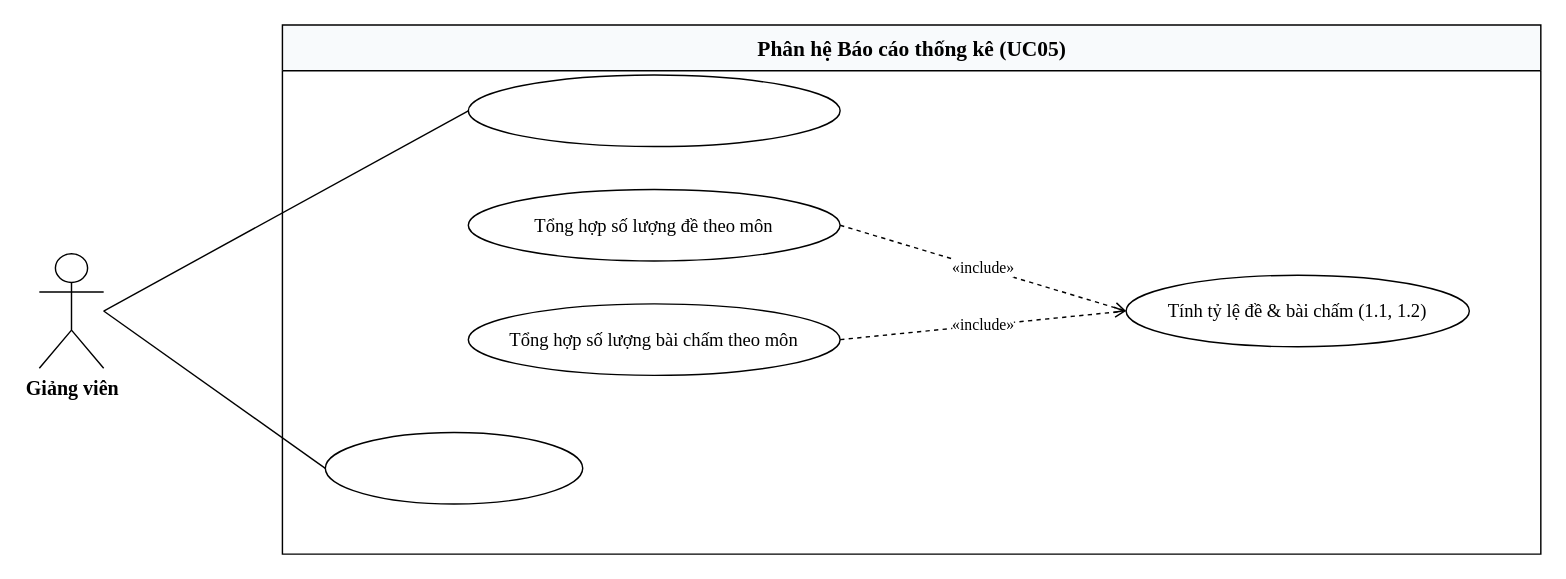
Some shapes in this 1566 by 579 pixel diagram are drawn without their labels. The shapes that lost their labels are listed below. From the top down, each one's centre as x and y in pixels, then its label:
At point 653,110: "Chọn năm học báo cáo".
At point 453,467: "Xuất / Hiển thị báo cáo năm (BM5)".
